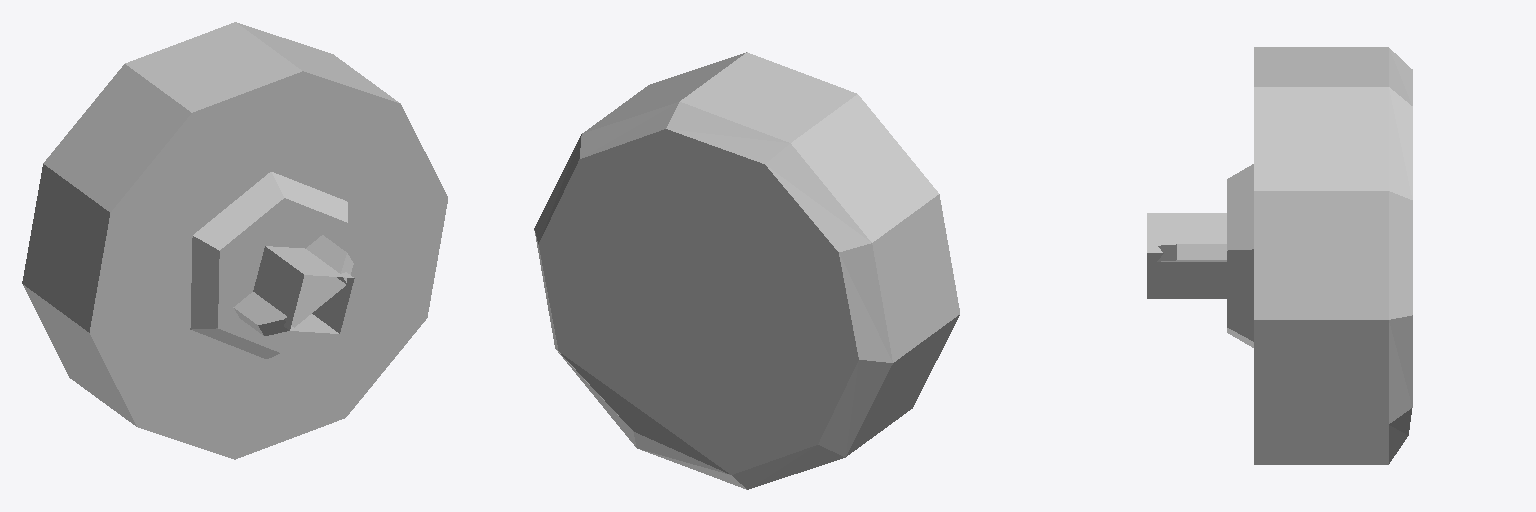
The model's file is wheel22.obj.
3 renders of one model, left to right at view 1: azimuth 30°, elevation 25°; view 2: azimuth 150°, elevation 25°; view 3: azimuth 270°, elevation 25°, orthographic.
Visible parts, largest first — view 1: wheel_low_textures; view 2: wheel_low_textures; view 3: wheel_low_textures.
Boxes of the visible parts, <box> form: wheel_low_textures: <box>22,22,447,459</box>; wheel_low_textures: <box>534,52,959,489</box>; wheel_low_textures: <box>1147,47,1412,464</box>.
Bounding box in the file's own units: 1.55 × 1.53 × 0.9907.